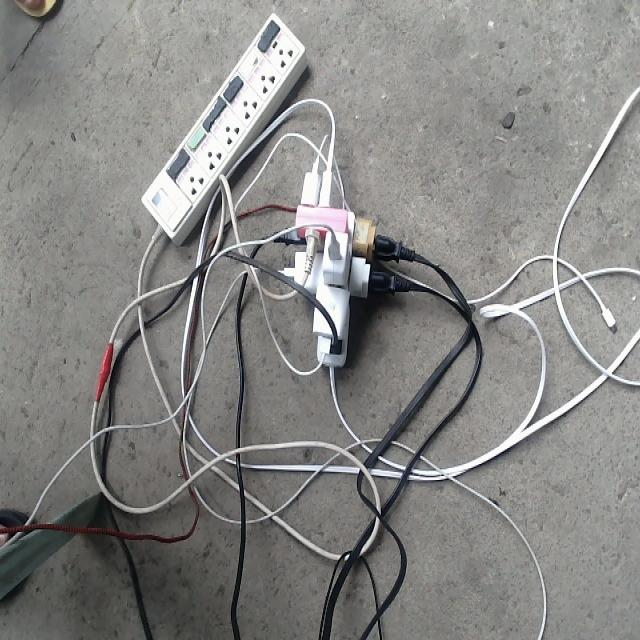-: (267, 155, 422, 369)
